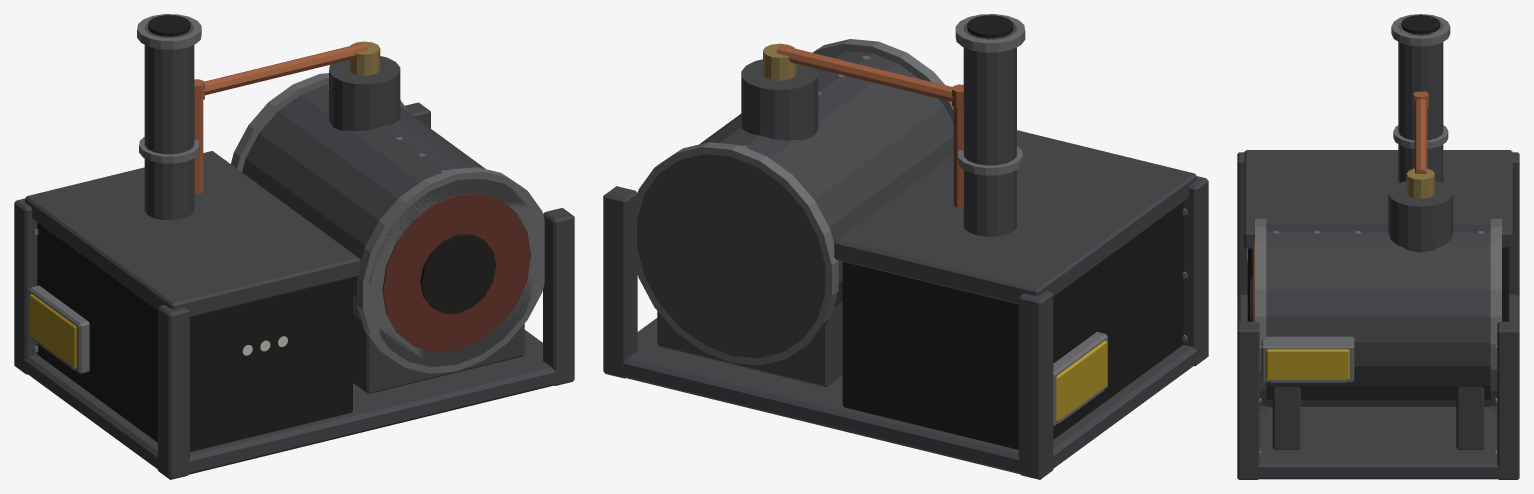
The model's file is steam_boiler_mk1.glb.
The picture shows the model from 3 angles, left to right: view 1: azimuth 30°, elevation 25°; view 2: azimuth 150°, elevation 25°; view 3: azimuth 270°, elevation 25°; orthographic projection. The views are drawn at different scales.
Parts seen in each view (by area): view 1: steam_boiler_mk1_CastIron, steam_boiler_mk1_Soot, steam_boiler_mk1_WeldedSteel, steam_boiler_mk1_OxideRed, steam_boiler_mk1_Copper, steam_boiler_mk1_HazardYellow, steam_boiler_mk1_DullBrass; view 2: steam_boiler_mk1_CastIron, steam_boiler_mk1_Soot, steam_boiler_mk1_WeldedSteel, steam_boiler_mk1_Copper, steam_boiler_mk1_HazardYellow, steam_boiler_mk1_DullBrass; view 3: steam_boiler_mk1_CastIron, steam_boiler_mk1_WeldedSteel, steam_boiler_mk1_HazardYellow, steam_boiler_mk1_Soot, steam_boiler_mk1_Copper, steam_boiler_mk1_DullBrass.
Boxes of the visible parts, box(x1,y1,x2,y2) form: steam_boiler_mk1_CastIron: box(14, 22, 574, 479); steam_boiler_mk1_Soot: box(37, 15, 495, 451); steam_boiler_mk1_WeldedSteel: box(29, 14, 544, 373); steam_boiler_mk1_OxideRed: box(382, 193, 531, 352); steam_boiler_mk1_Copper: box(194, 43, 367, 193); steam_boiler_mk1_HazardYellow: box(30, 293, 76, 368); steam_boiler_mk1_DullBrass: box(349, 41, 380, 75); steam_boiler_mk1_CastIron: box(603, 22, 1208, 479); steam_boiler_mk1_Soot: box(842, 15, 1183, 449); steam_boiler_mk1_WeldedSteel: box(636, 14, 1187, 426); steam_boiler_mk1_Copper: box(776, 45, 963, 208); steam_boiler_mk1_HazardYellow: box(1056, 340, 1107, 421); steam_boiler_mk1_DullBrass: box(763, 43, 796, 80); steam_boiler_mk1_CastIron: box(1237, 22, 1519, 479); steam_boiler_mk1_WeldedSteel: box(1255, 14, 1501, 456); steam_boiler_mk1_HazardYellow: box(1265, 349, 1349, 380); steam_boiler_mk1_Soot: box(1247, 15, 1509, 321); steam_boiler_mk1_Copper: box(1413, 91, 1428, 173); steam_boiler_mk1_DullBrass: box(1406, 168, 1434, 198).
Bounding box in the file's own units: 6 × 5.05 × 4.
